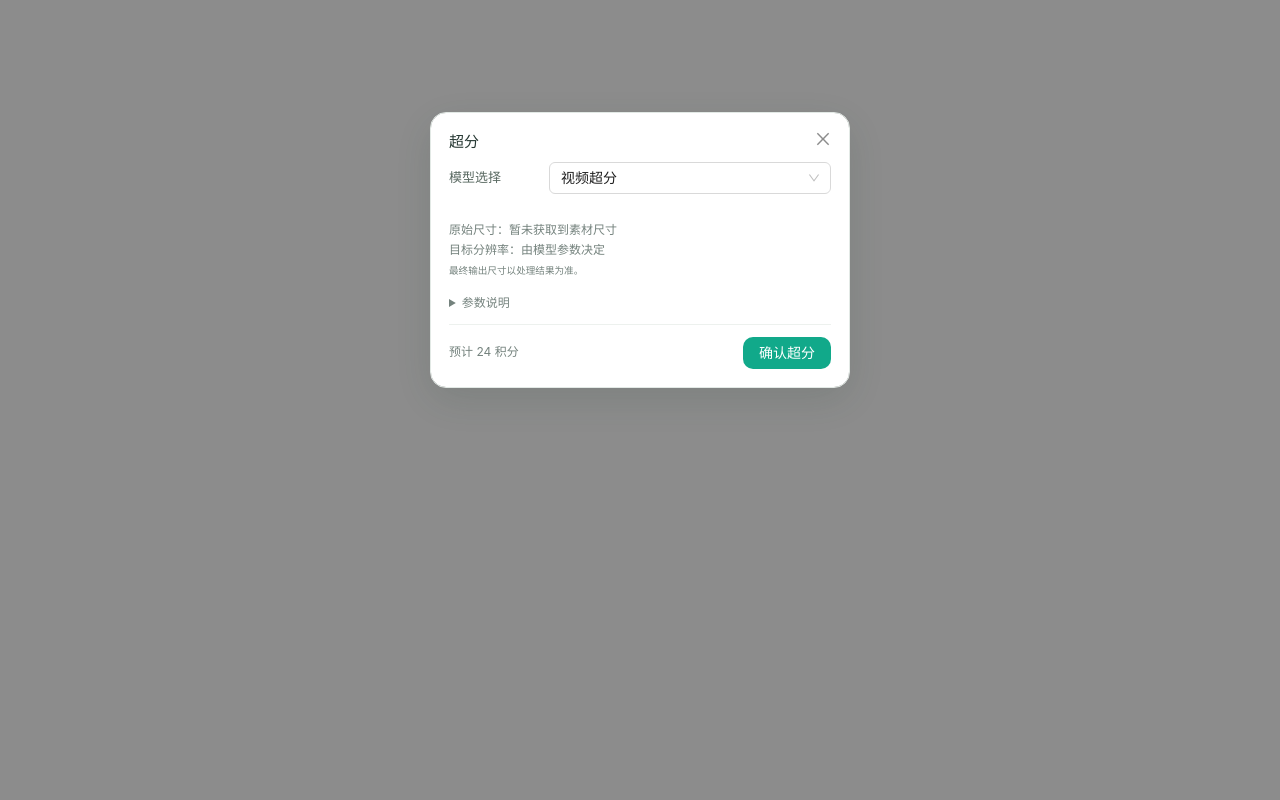
原视频失效时显示错误，不回退到旧的付费任务流程
Click the button "确认超分" at (787, 353), box left=743, top=337, right=831, bottom=369
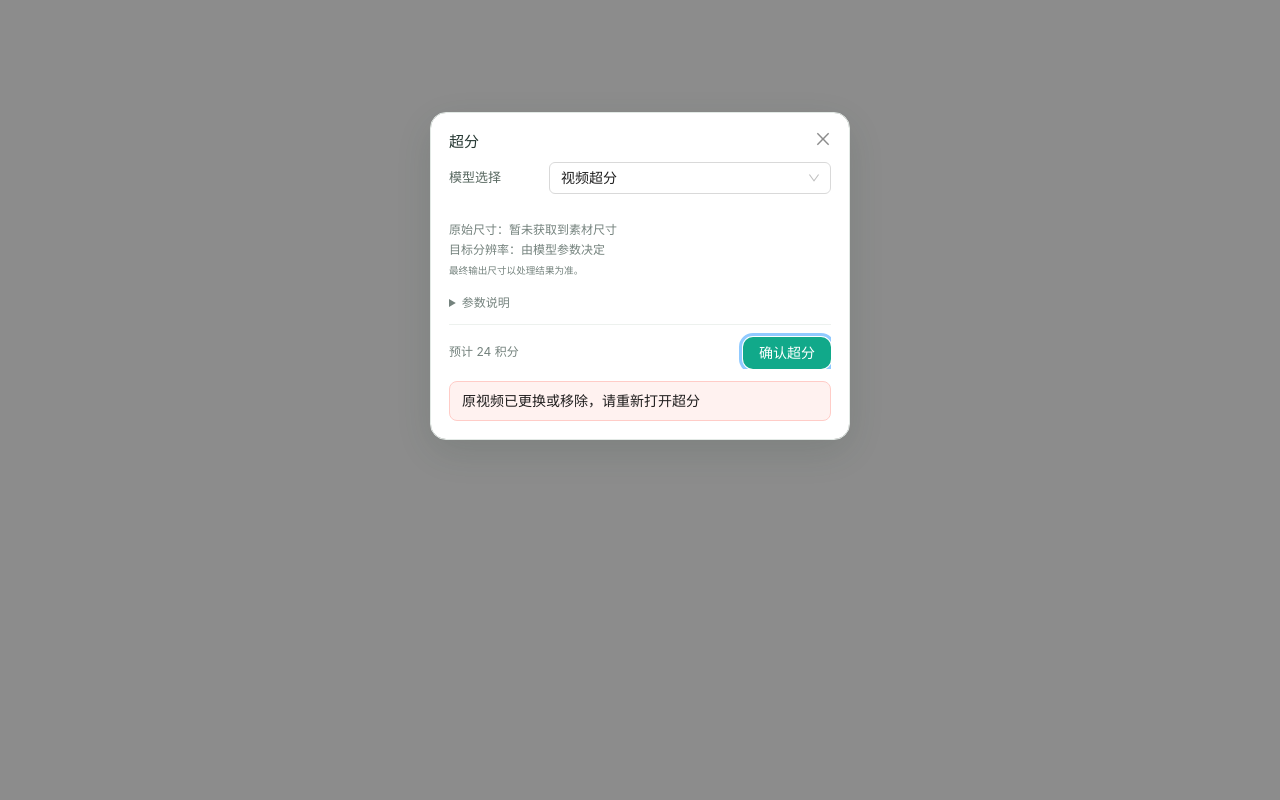
Expected: the text "原视频已更换或移除，请重新打开超分" is shown, left=462, top=392, right=700, bottom=409
